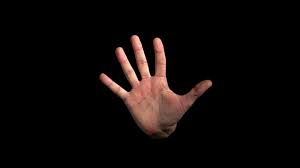palm: (96, 33, 215, 138)
